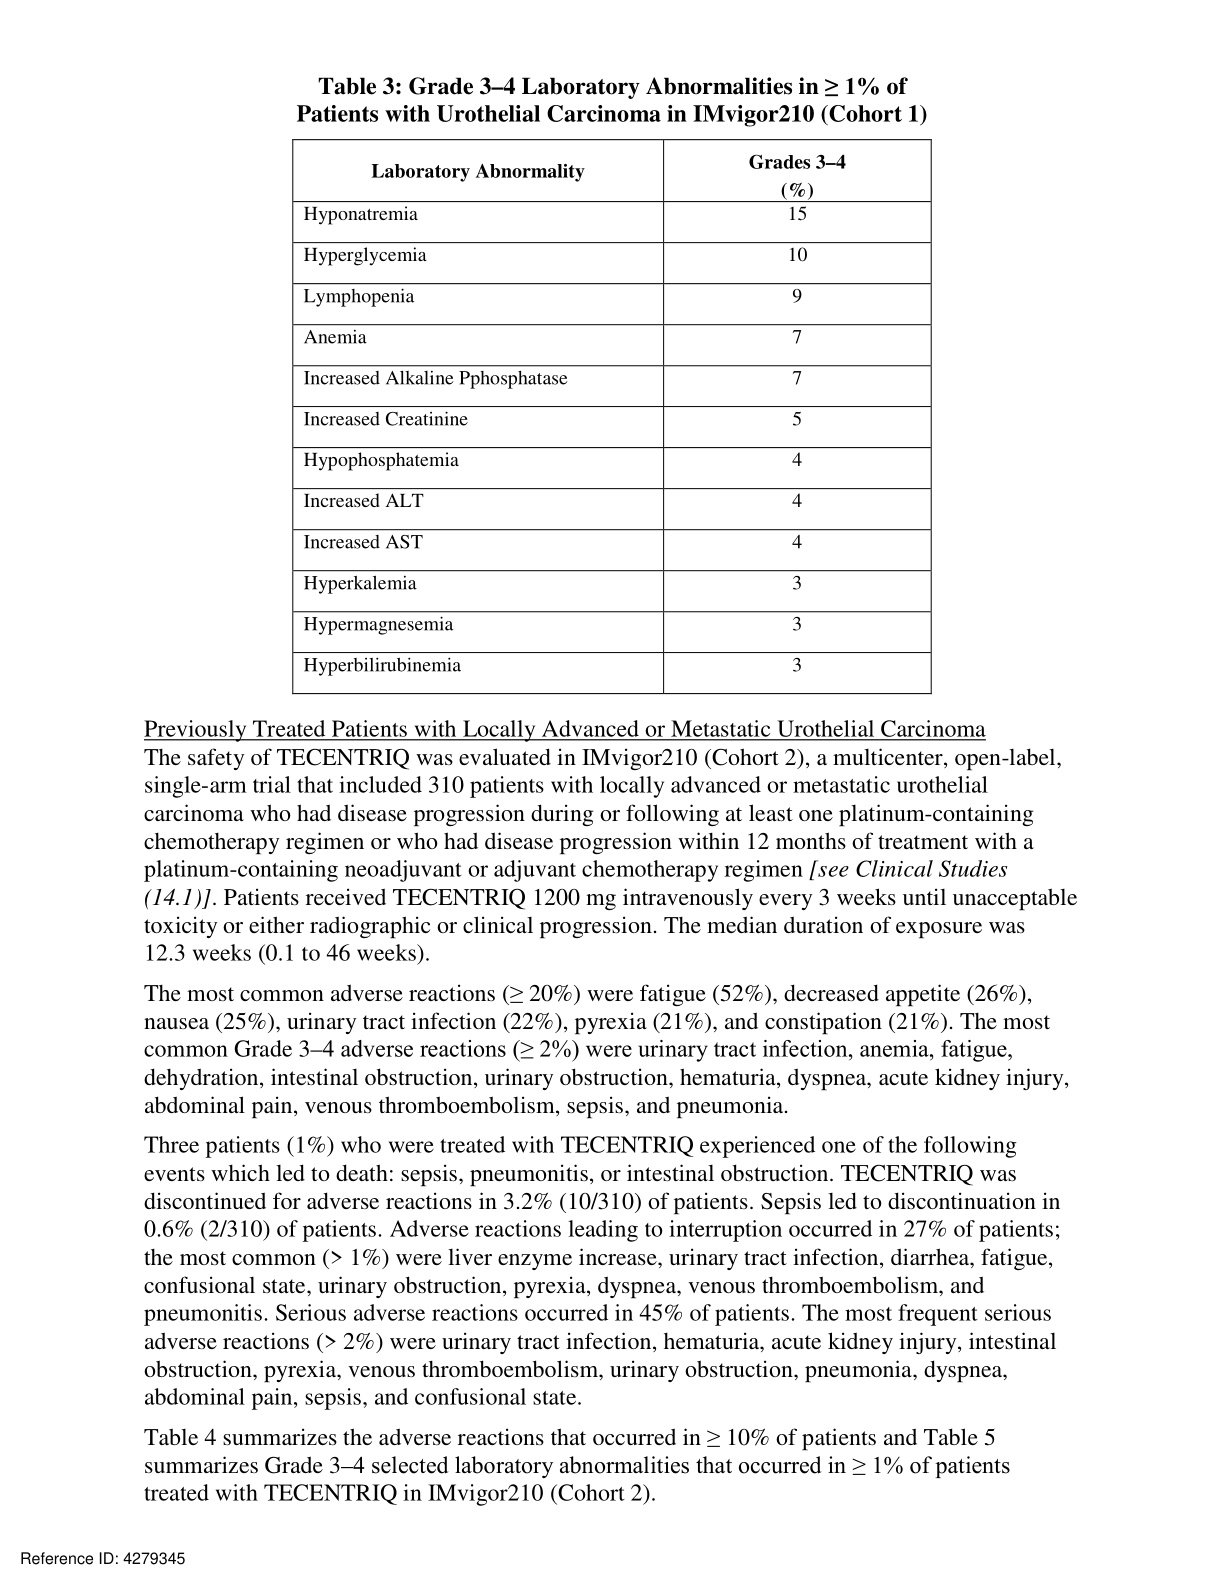full_lined: (291, 138, 933, 696)
